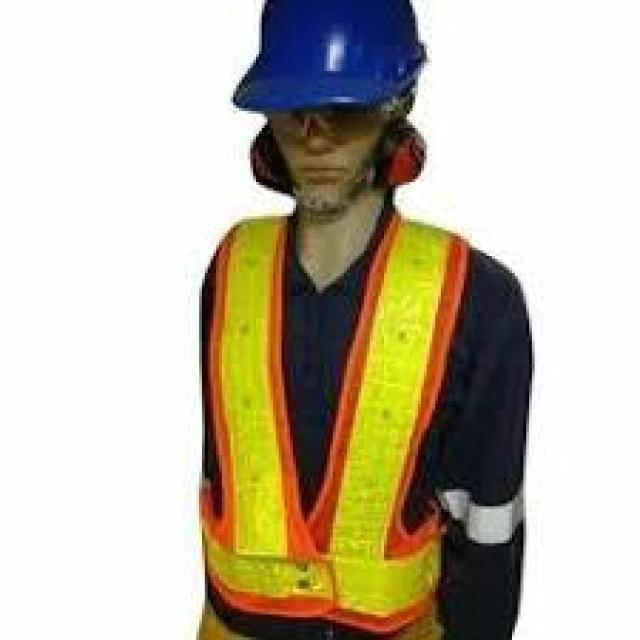Reflective-Jacket: (173, 190, 506, 640)
Safety-Helmet: (227, 0, 446, 122)
